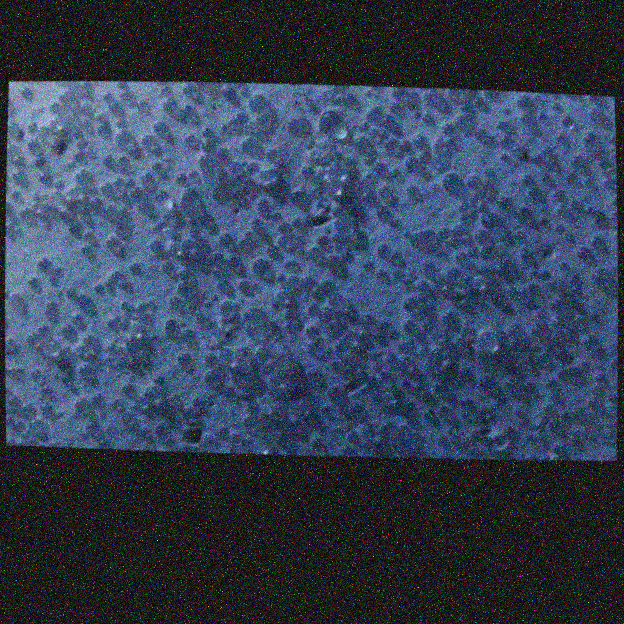GrassBeadSeg: (27, 120, 606, 379), (29, 84, 432, 427), (115, 117, 550, 430), (117, 112, 612, 387), (139, 114, 614, 398), (88, 125, 539, 422), (117, 154, 538, 459), (125, 98, 494, 443), (31, 142, 614, 350), (98, 178, 526, 458), (41, 179, 599, 393), (211, 139, 616, 430), (6, 121, 377, 437), (77, 132, 498, 409), (135, 104, 524, 397), (195, 171, 616, 440), (90, 192, 616, 404), (9, 112, 393, 396), (8, 97, 409, 366), (10, 111, 534, 316), (6, 98, 340, 412), (50, 148, 400, 447), (48, 100, 465, 348), (59, 138, 474, 382), (9, 191, 480, 405), (79, 157, 498, 378), (109, 110, 602, 291), (181, 113, 495, 397), (25, 173, 534, 343), (72, 99, 375, 384), (17, 150, 341, 414), (36, 160, 520, 335), (104, 279, 611, 442), (70, 143, 525, 323), (116, 80, 432, 338), (135, 178, 493, 405), (6, 176, 308, 445), (5, 152, 541, 296), (85, 245, 494, 431), (228, 187, 604, 381), (99, 181, 472, 376), (160, 104, 590, 272), (94, 102, 557, 257), (117, 191, 445, 405), (6, 205, 376, 394), (8, 111, 409, 284), (156, 136, 386, 435), (175, 188, 563, 364), (224, 136, 494, 387), (121, 153, 410, 386), (128, 185, 463, 378), (114, 129, 588, 257), (124, 177, 446, 359), (113, 89, 410, 285), (131, 228, 488, 391), (29, 147, 276, 378), (114, 136, 564, 262), (7, 142, 297, 337), (154, 265, 489, 432), (120, 293, 505, 437), (135, 258, 512, 403), (63, 102, 229, 429), (371, 101, 560, 368), (305, 114, 530, 334), (25, 138, 511, 237), (237, 183, 408, 449), (307, 133, 514, 351), (30, 218, 304, 373), (118, 151, 430, 287), (32, 266, 605, 340), (234, 159, 441, 359), (74, 245, 324, 407), (199, 139, 381, 359), (283, 184, 568, 319), (6, 283, 319, 404), (37, 170, 419, 268), (181, 238, 425, 390), (44, 159, 196, 399), (107, 100, 230, 396), (154, 188, 371, 355), (38, 161, 386, 264), (19, 85, 135, 392), (187, 216, 563, 307), (89, 122, 470, 210), (296, 89, 497, 254), (72, 150, 201, 404), (266, 129, 388, 392), (91, 140, 229, 370), (93, 133, 197, 431), (248, 93, 468, 233), (102, 91, 392, 197), (449, 106, 600, 300), (371, 160, 565, 310), (250, 185, 458, 322), (93, 291, 340, 406), (28, 89, 356, 172), (102, 191, 490, 256), (95, 217, 446, 288), (126, 187, 268, 360), (100, 152, 300, 270), (319, 267, 608, 348), (103, 235, 414, 310), (77, 322, 522, 374), (198, 152, 306, 362), (73, 168, 300, 264), (226, 172, 461, 262), (104, 206, 532, 255), (410, 261, 568, 393), (275, 100, 391, 268), (67, 219, 235, 335), (96, 349, 290, 448), (151, 120, 271, 269), (72, 98, 149, 325), (128, 217, 450, 271), (34, 133, 473, 171), (197, 190, 523, 240), (174, 171, 530, 215), (38, 82, 193, 182), (189, 82, 290, 231), (161, 98, 298, 202), (107, 313, 279, 395), (139, 133, 228, 290), (434, 136, 532, 267), (151, 311, 544, 343), (68, 112, 221, 192), (103, 161, 233, 250), (187, 194, 283, 311), (324, 259, 426, 365), (357, 136, 464, 237), (340, 319, 416, 455), (179, 181, 389, 227), (537, 205, 617, 325), (119, 88, 234, 171), (422, 260, 565, 326), (366, 259, 435, 383), (403, 358, 529, 424), (441, 96, 565, 161), (345, 379, 449, 455), (505, 93, 603, 173), (119, 205, 181, 325), (8, 189, 66, 303), (341, 330, 449, 390), (315, 273, 447, 319), (61, 315, 149, 384), (296, 368, 371, 446), (139, 389, 267, 434), (232, 87, 326, 146), (5, 299, 43, 444), (505, 268, 593, 330), (296, 175, 479, 204), (461, 381, 551, 439), (287, 86, 372, 147), (110, 304, 148, 433), (231, 365, 288, 449), (315, 136, 358, 246), (305, 324, 412, 368), (478, 94, 530, 184), (244, 306, 311, 373), (430, 151, 511, 206), (5, 293, 87, 346), (152, 209, 269, 246), (354, 280, 427, 338), (198, 385, 262, 449), (190, 385, 258, 443), (200, 293, 269, 349), (390, 99, 486, 138), (566, 358, 617, 426), (12, 375, 75, 430), (408, 116, 434, 244), (27, 274, 80, 336), (210, 119, 251, 198), (6, 191, 85, 232), (362, 352, 396, 446), (31, 283, 152, 309), (309, 151, 373, 200), (495, 107, 564, 151), (536, 172, 591, 227), (542, 360, 602, 409), (503, 326, 546, 392), (311, 276, 346, 350), (381, 414, 446, 453), (66, 333, 136, 368), (508, 337, 554, 389), (396, 140, 553, 155), (203, 351, 230, 437), (540, 155, 613, 186), (168, 242, 229, 279), (169, 302, 236, 334), (570, 132, 615, 176), (220, 279, 279, 312), (190, 269, 238, 307), (547, 410, 590, 452), (246, 291, 292, 330), (58, 185, 105, 223), (216, 278, 334, 293), (173, 106, 269, 124), (106, 312, 148, 353), (387, 249, 417, 305), (530, 313, 595, 337), (412, 88, 438, 147), (12, 338, 68, 365), (365, 95, 402, 135), (268, 368, 299, 415), (81, 88, 92, 218), (436, 427, 483, 457), (218, 328, 258, 362), (417, 134, 454, 169), (59, 89, 91, 127), (51, 93, 90, 124), (17, 179, 82, 197), (309, 147, 327, 211), (404, 137, 429, 169), (362, 155, 399, 176), (251, 273, 299, 289), (286, 118, 336, 132), (391, 85, 435, 100), (358, 313, 390, 330), (377, 319, 414, 331), (469, 265, 488, 288), (270, 289, 294, 307), (365, 128, 375, 161), (335, 330, 354, 347), (318, 110, 338, 126), (287, 275, 313, 287), (223, 119, 254, 128), (568, 155, 587, 167), (102, 203, 117, 215), (233, 120, 234, 121)
